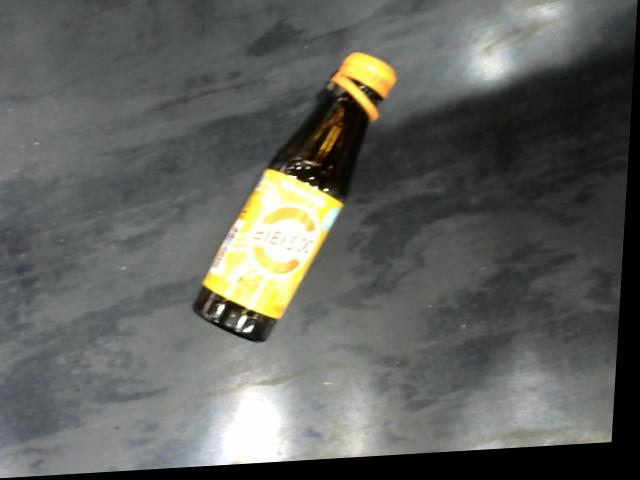glass: (195, 51, 411, 351)
